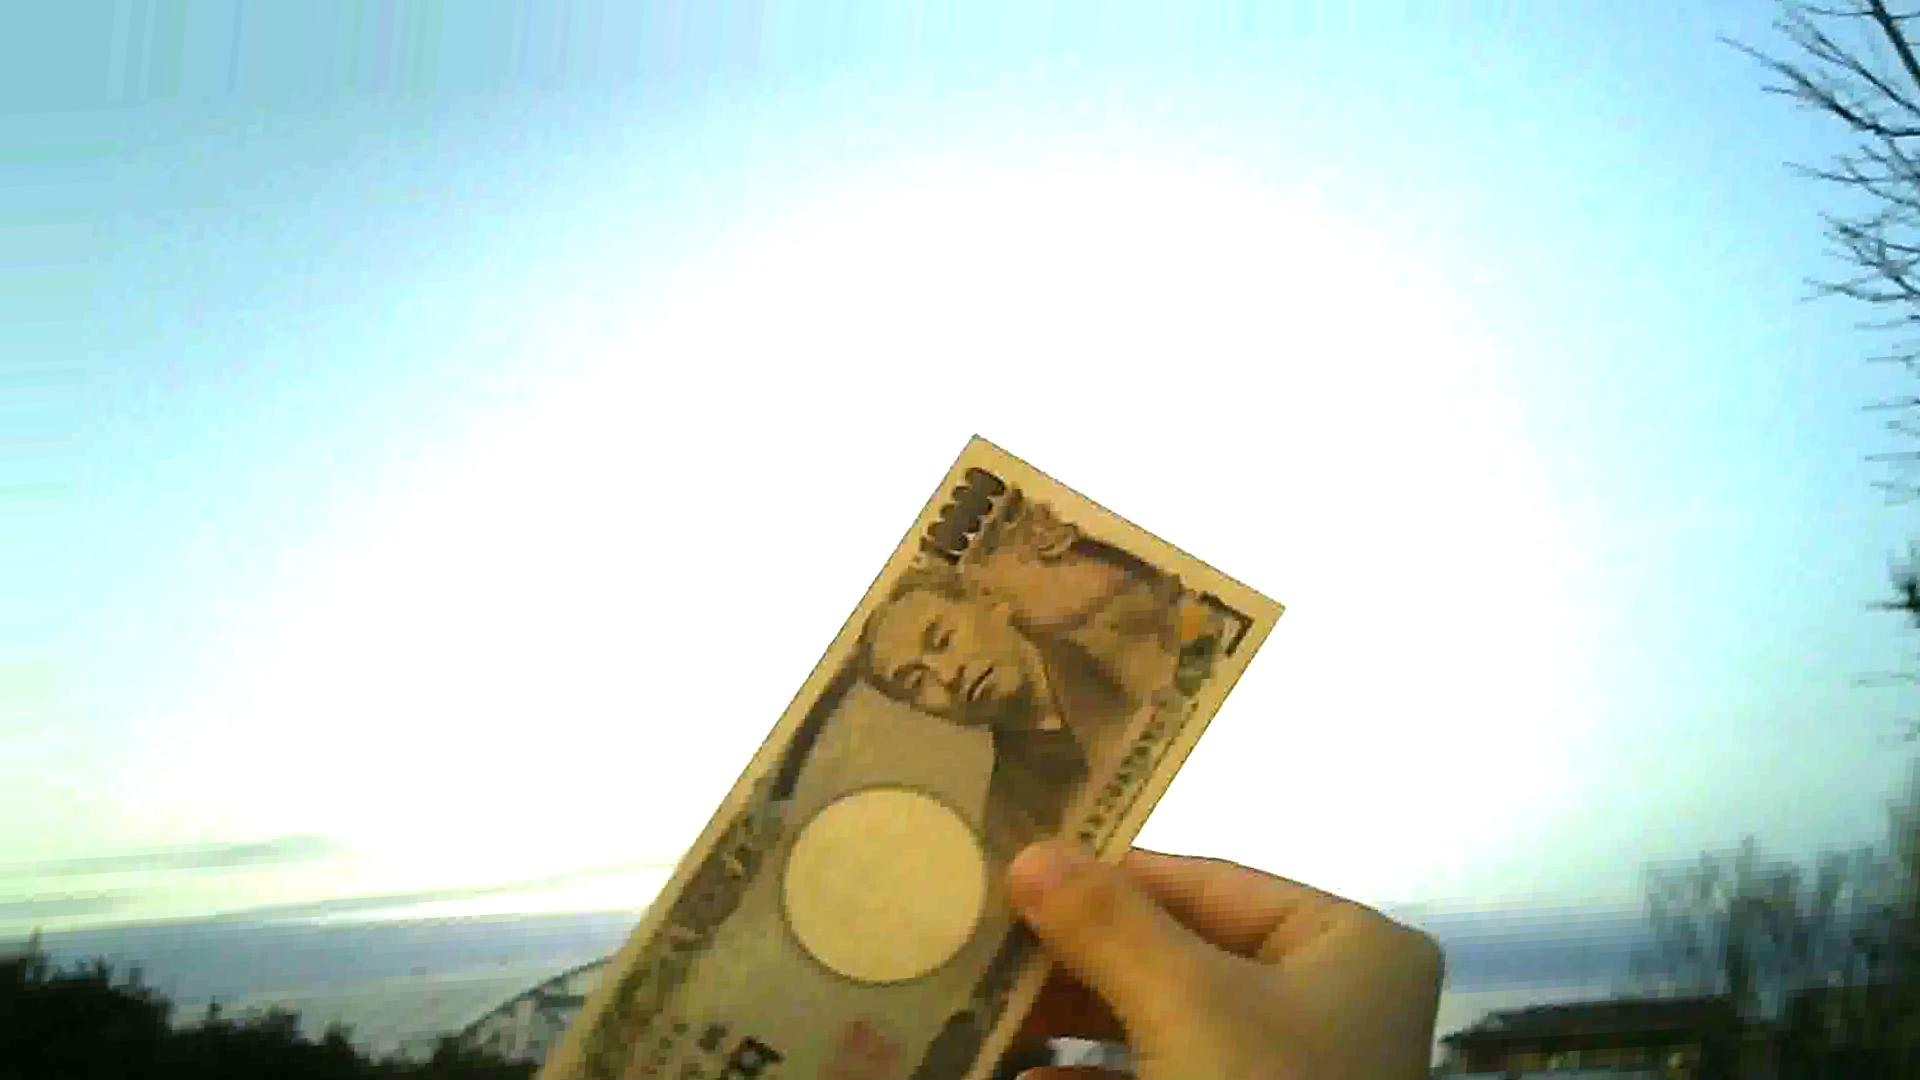10,000 Yen: (615, 440, 1284, 1062)
